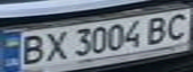0: (106, 20, 127, 52), (90, 24, 109, 54)
3: (69, 25, 93, 57)
4: (121, 17, 148, 48)
B: (15, 33, 51, 66), (142, 14, 175, 45)
C: (160, 10, 193, 42)
X: (39, 29, 69, 63)
